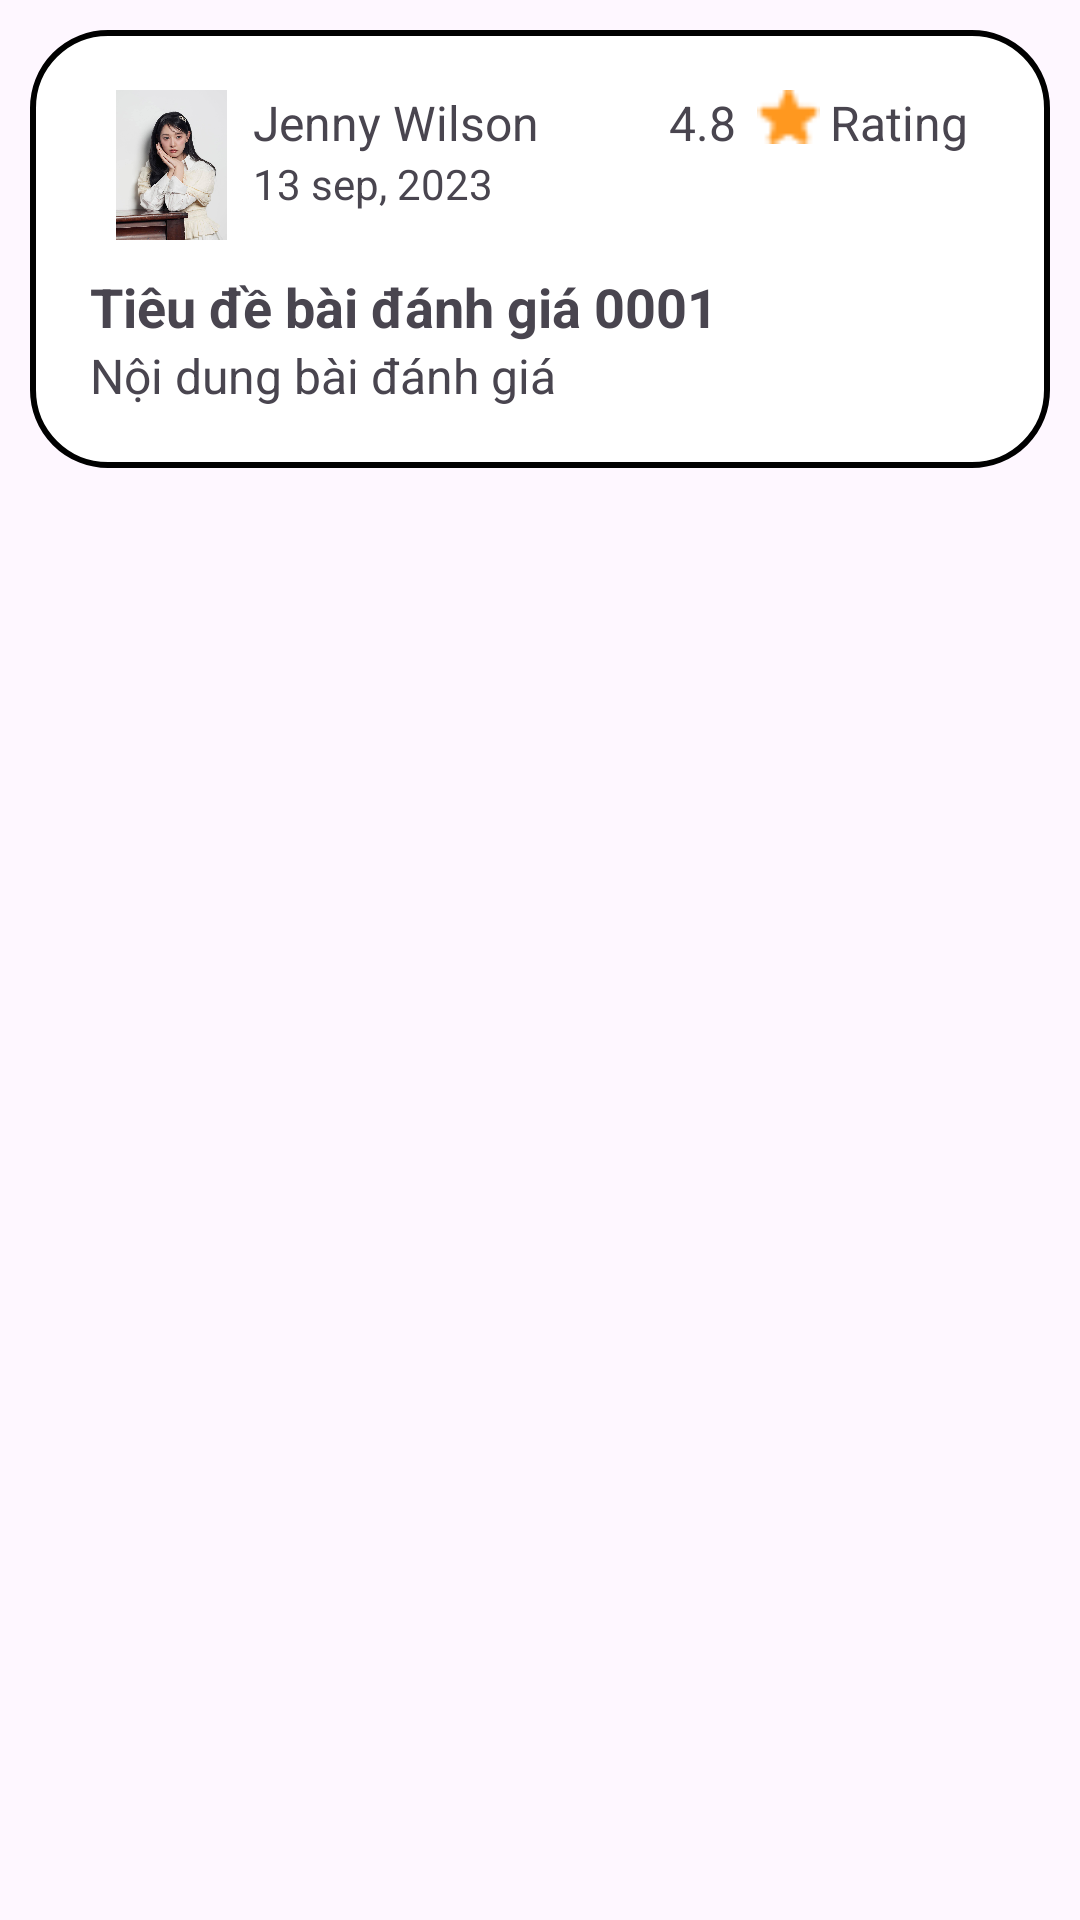

Icons on this 1080×1920 Android screen, each with the point to tap as point (x, y):
star: point (788, 117)
